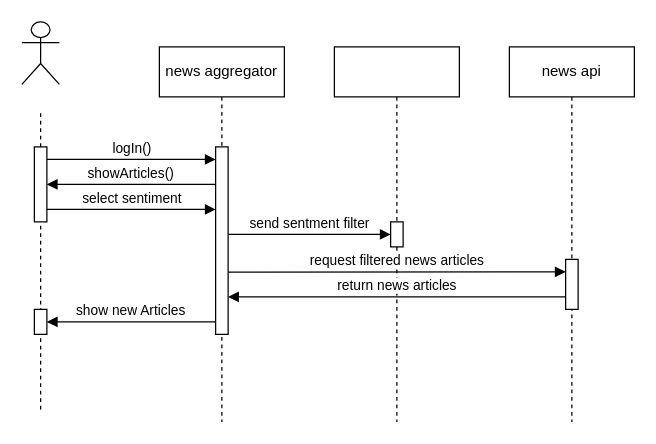
Some shapes in this 656 by 444 pixel diagram are drawn without their labels. The shapes that lost their labels are listed below. From the top down, each one's centre as x and y in pixels, then its label:
[40,52]: Actor
[396,234]: sentments analysis server
